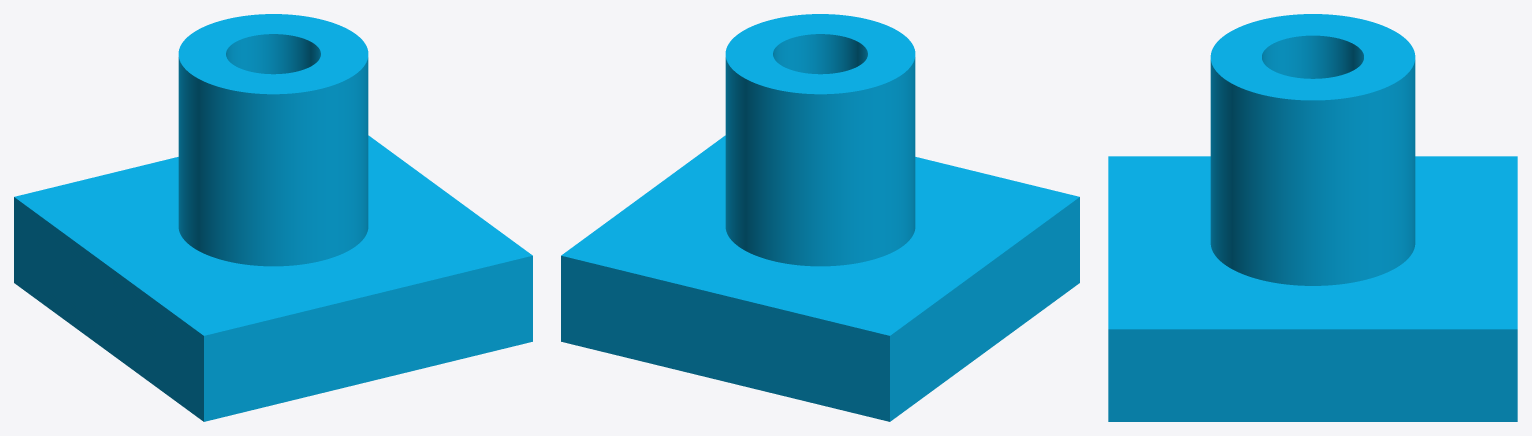
Rendered from workplane-3.gltf.
The picture shows the model from 3 angles, left to right: view 1: azimuth 30°, elevation 25°; view 2: azimuth 150°, elevation 25°; view 3: azimuth 270°, elevation 25°; orthographic projection. The views are drawn at different scales.
Parts seen in each view (by area): view 1: Gövde; view 2: Gövde; view 3: Gövde.
Boxes of the visible parts, box(x1,y1,x2,y2) form: Gövde: box(14, 14, 532, 421); Gövde: box(561, 14, 1079, 421); Gövde: box(1108, 14, 1517, 421).
Bounding box in the file's own units: 0.04 × 0.03 × 0.04.
